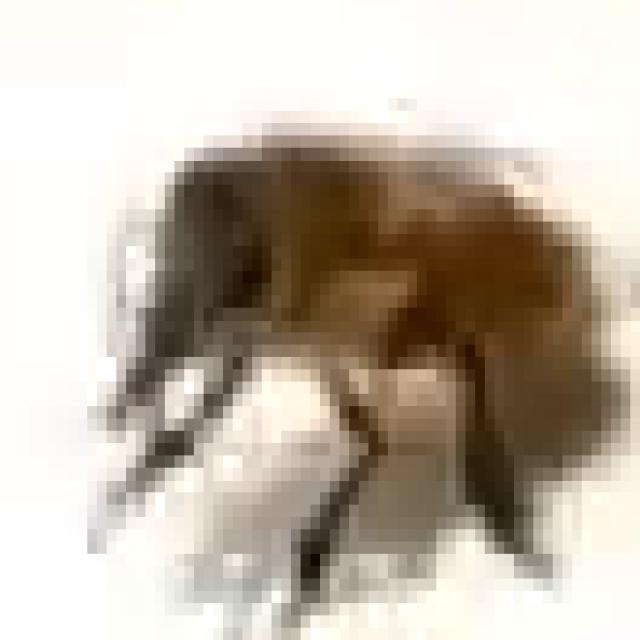honeybee: (115, 106, 604, 532)
